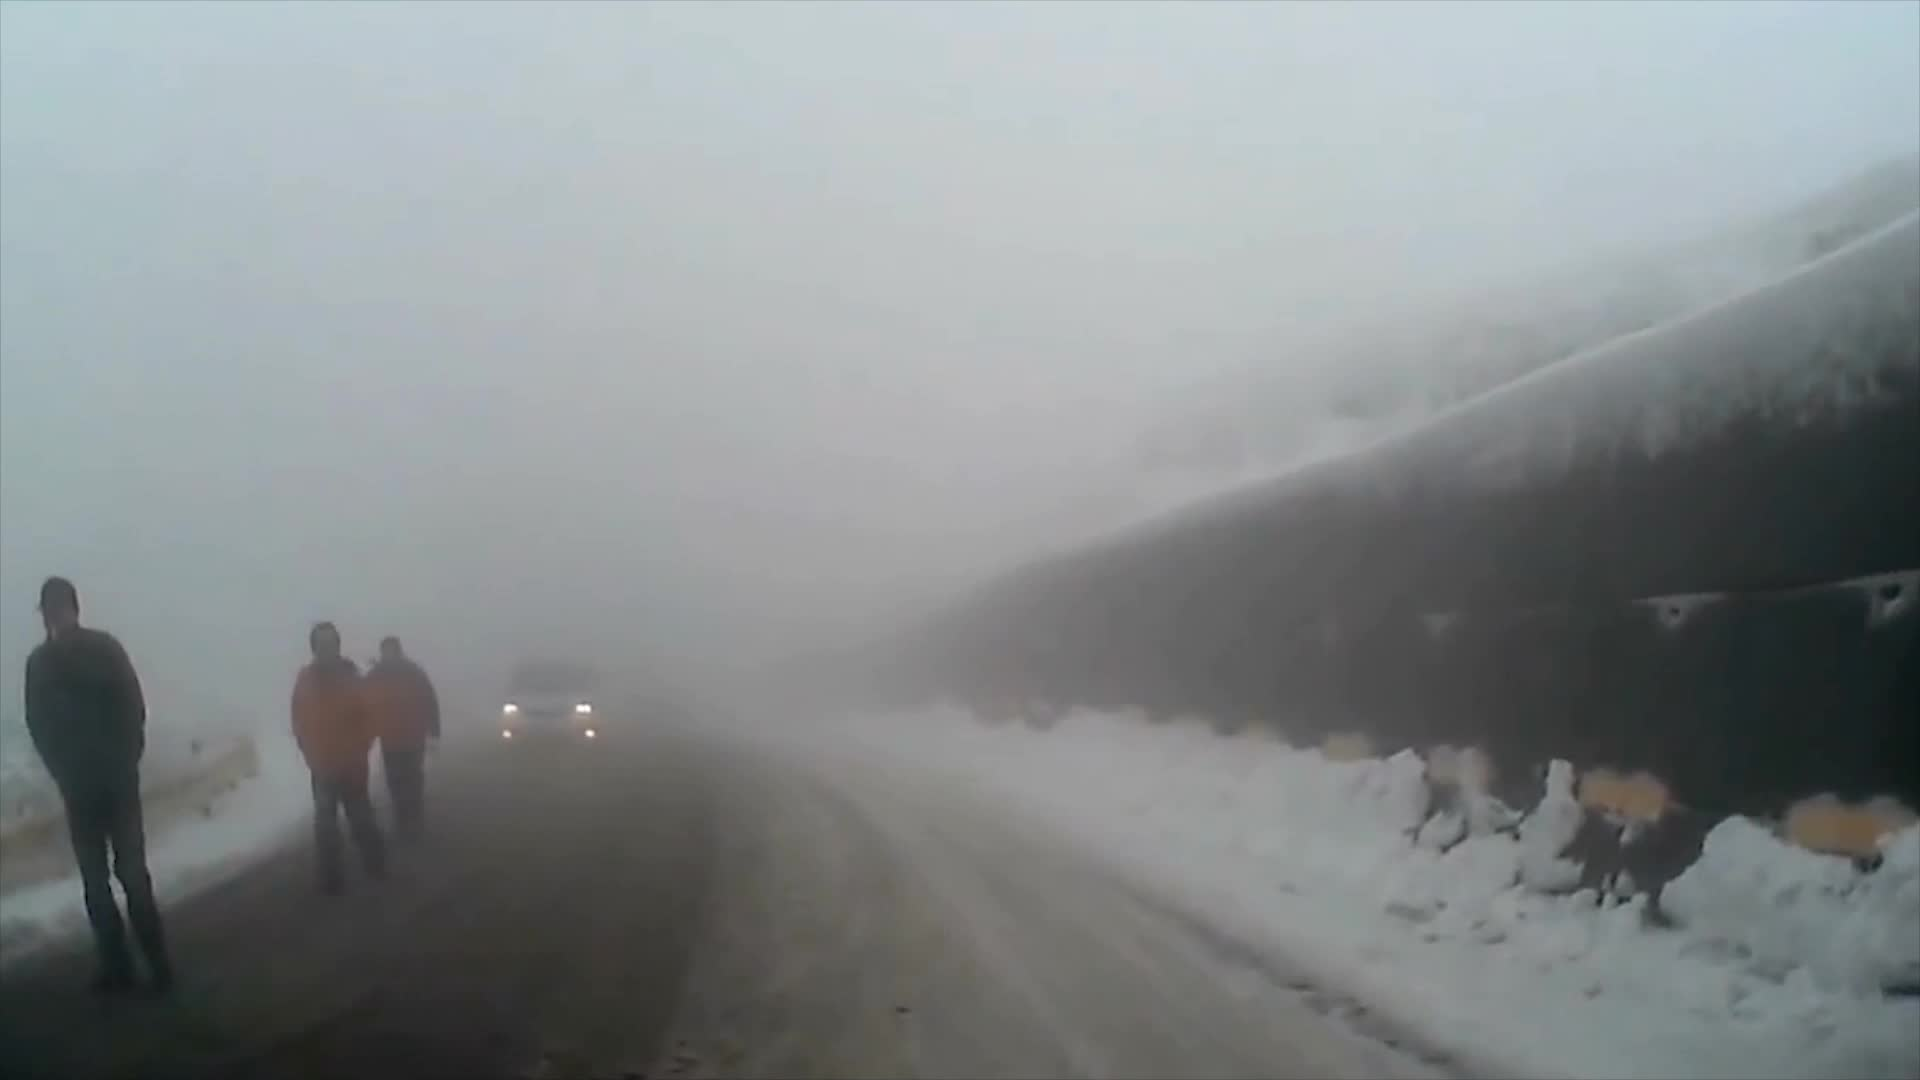pedestrian: (19, 579, 175, 992), (285, 620, 386, 894), (367, 633, 446, 855)
vehicle: (495, 655, 599, 753)
